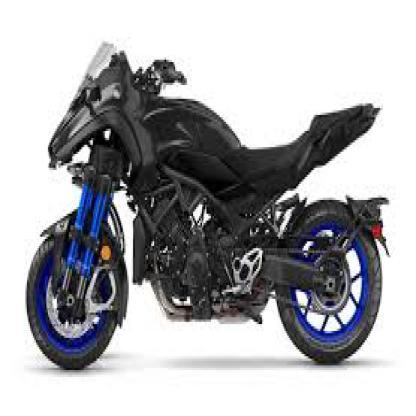Motorcycle: (27, 44, 387, 376)
